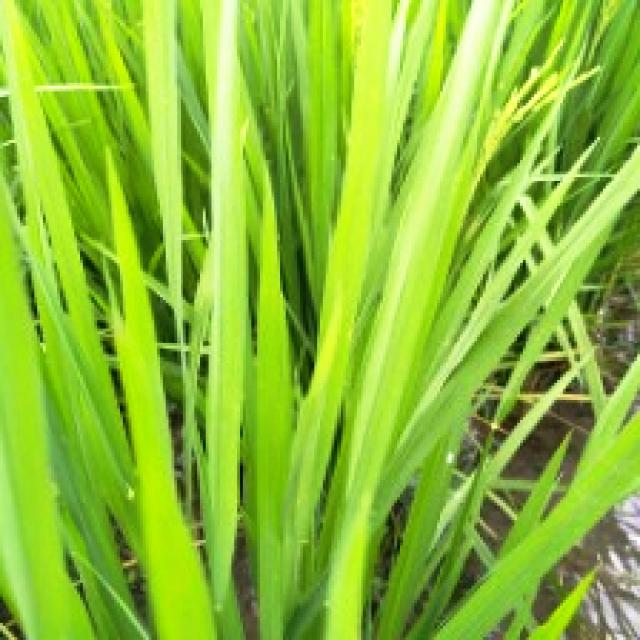health: (0, 31, 600, 640)
